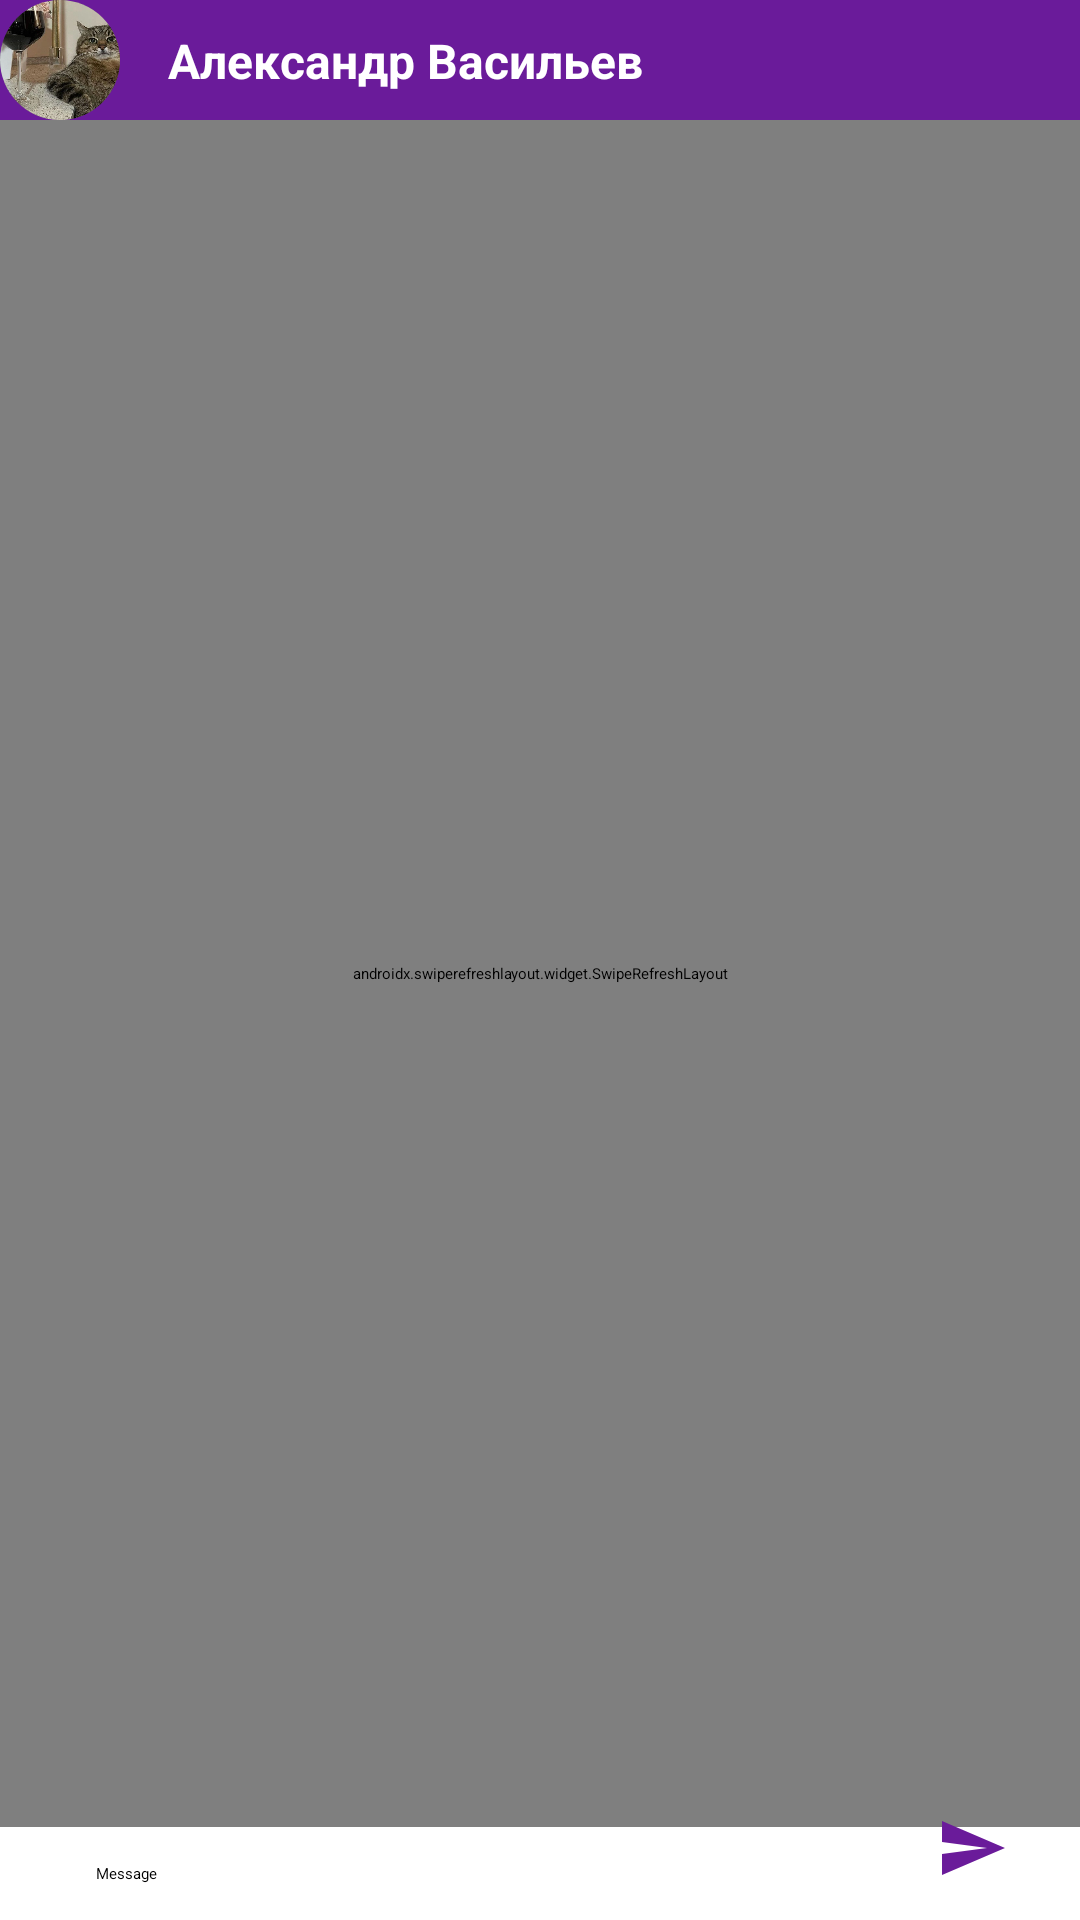

Icon click points for this 1080px×1920px phone screenshot, format [x,y]:
kotkot: [60,60]
send: [972,1843]
